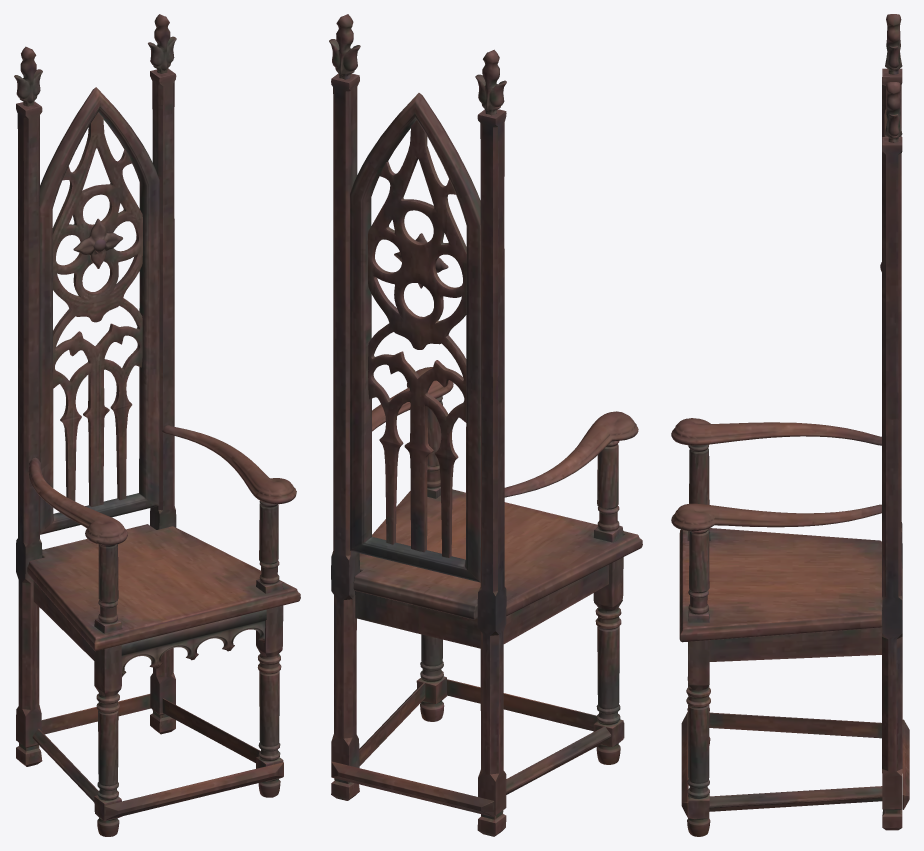
File: dining-chair.glb
3 views of the same model, side by side, from view 1: azimuth 30°, elevation 25°; view 2: azimuth 150°, elevation 25°; view 3: azimuth 270°, elevation 25° (orthographic). The views are drawn at different scales.
Visible parts, largest first — view 1: WoodenChair_01; view 2: WoodenChair_01; view 3: WoodenChair_01.
Boxes of the visible parts, x1,y1,x2,y2 form: WoodenChair_01: [14, 14, 300, 836]; WoodenChair_01: [329, 14, 642, 836]; WoodenChair_01: [671, 14, 909, 836].
Size of the model in its own units: 0.6882 by 2.27 by 0.6585.
Materials: 1 (1 with a texture image).
